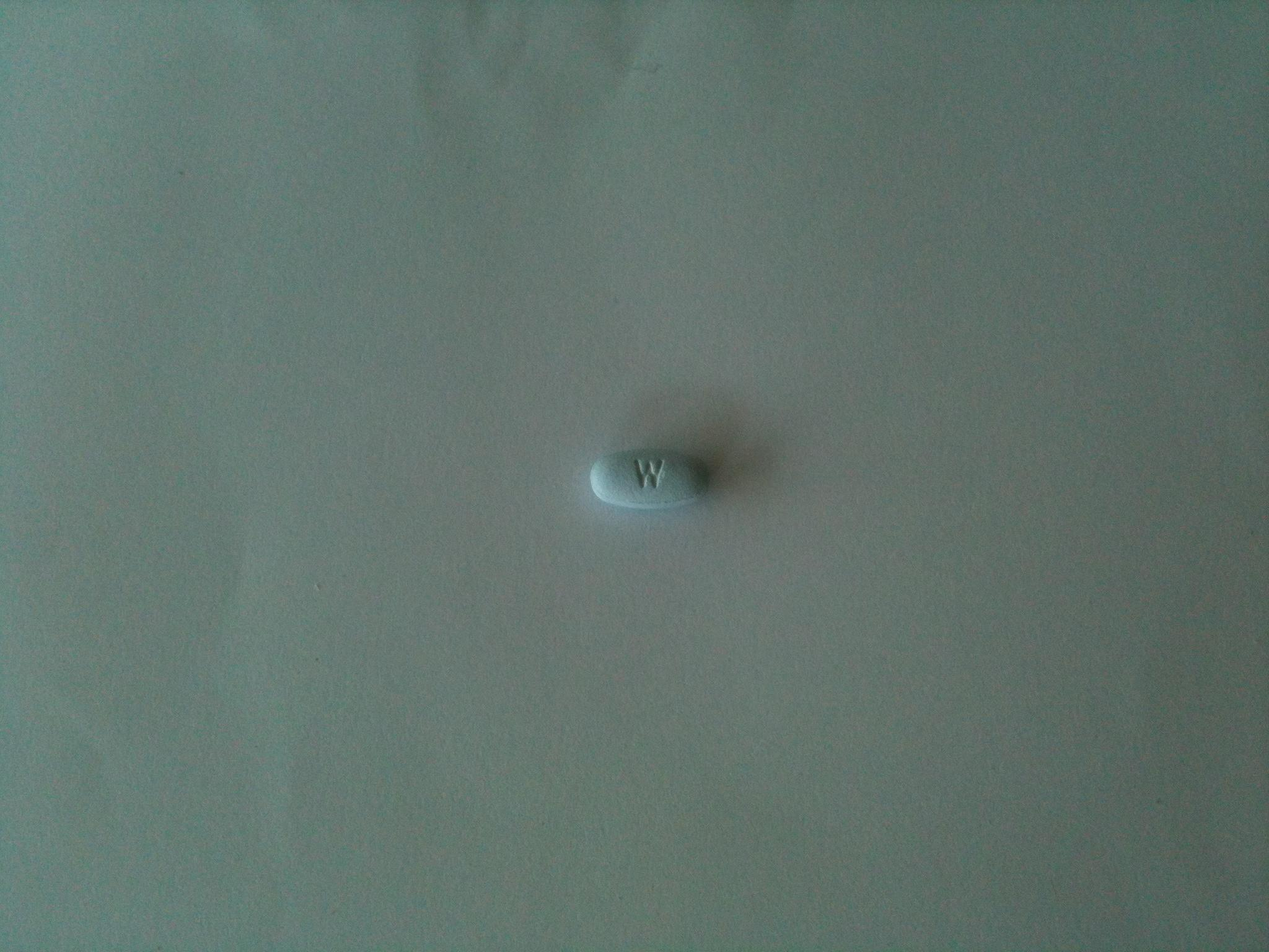Pill: (581, 434, 680, 542)
